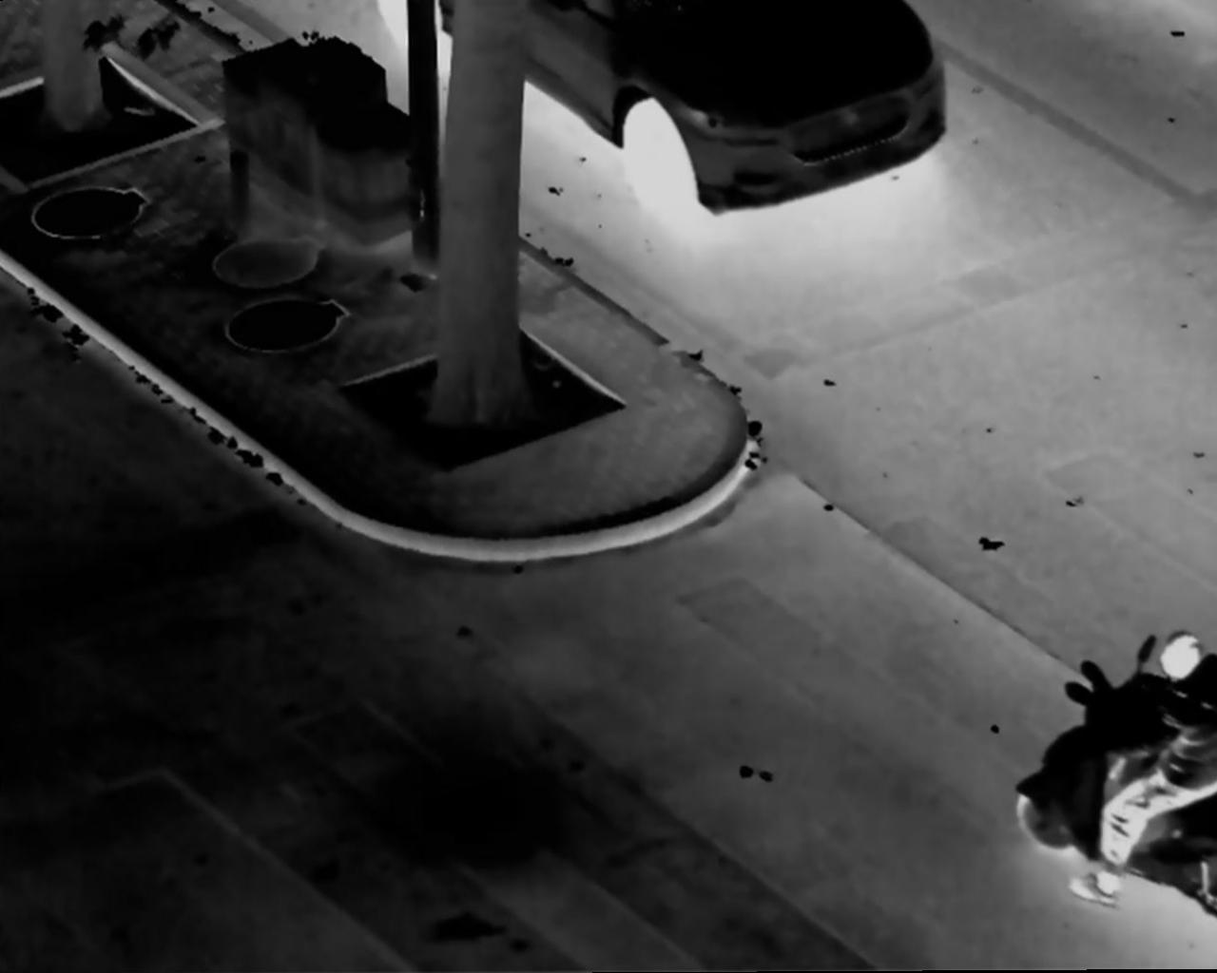person: (1059, 630, 1217, 911)
